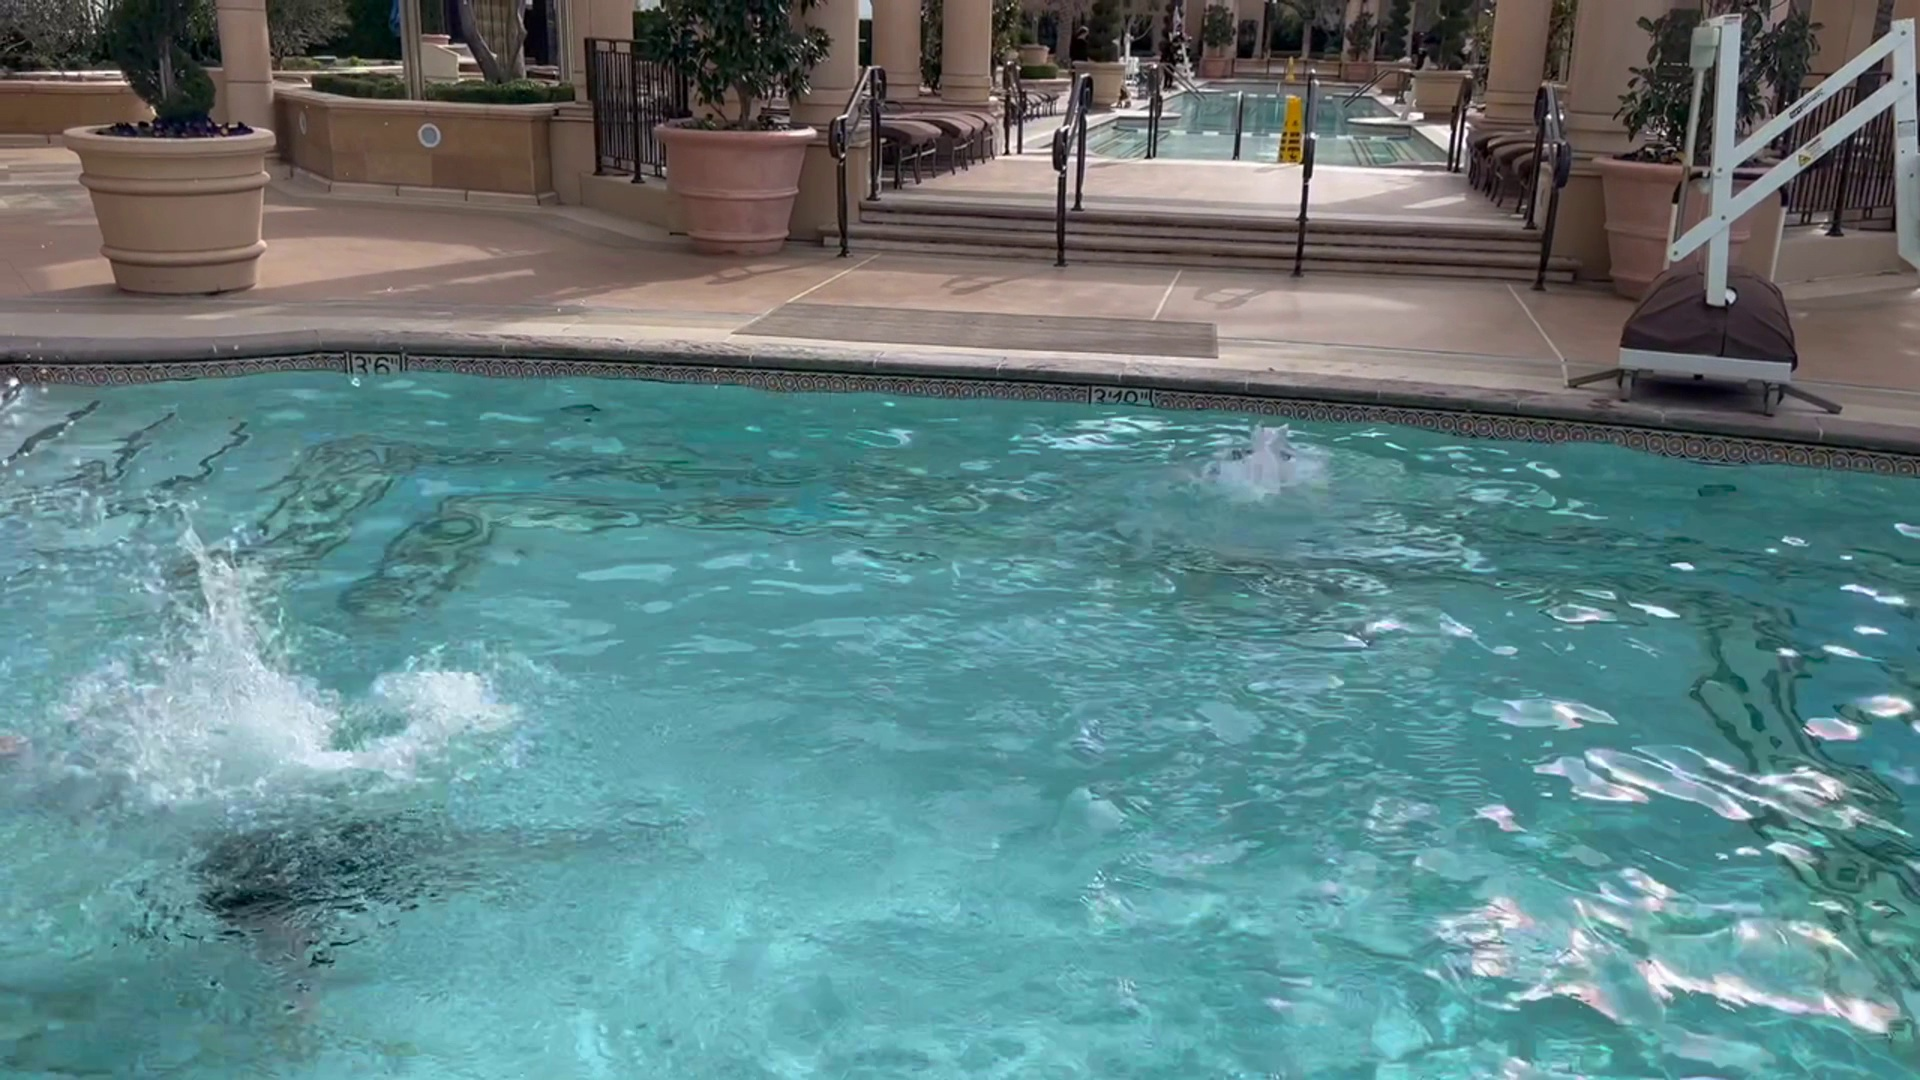danger: (18, 509, 549, 890)
